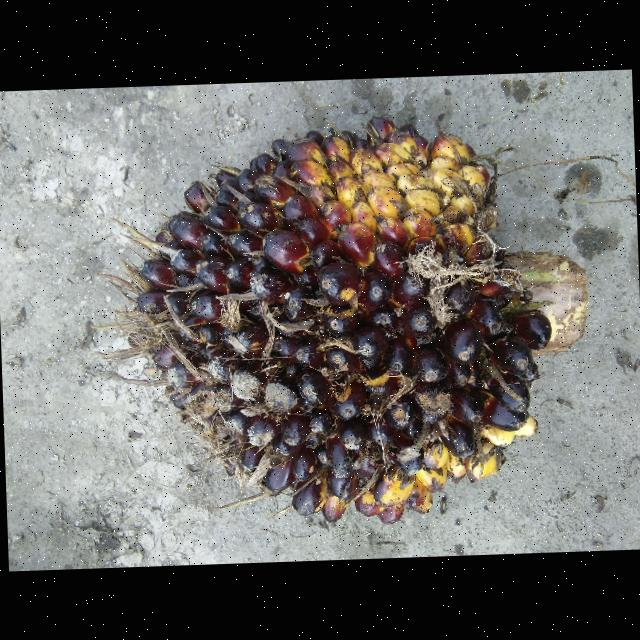Unripe: (138, 121, 553, 527)
